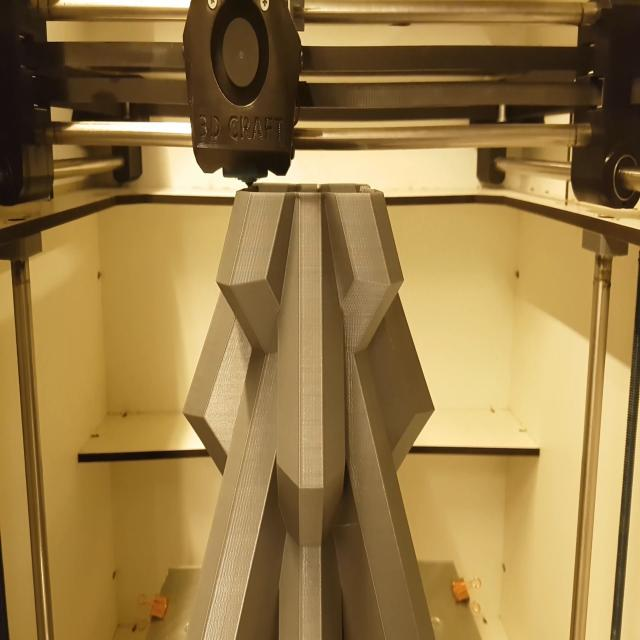Without deffect: (179, 182, 441, 640)
